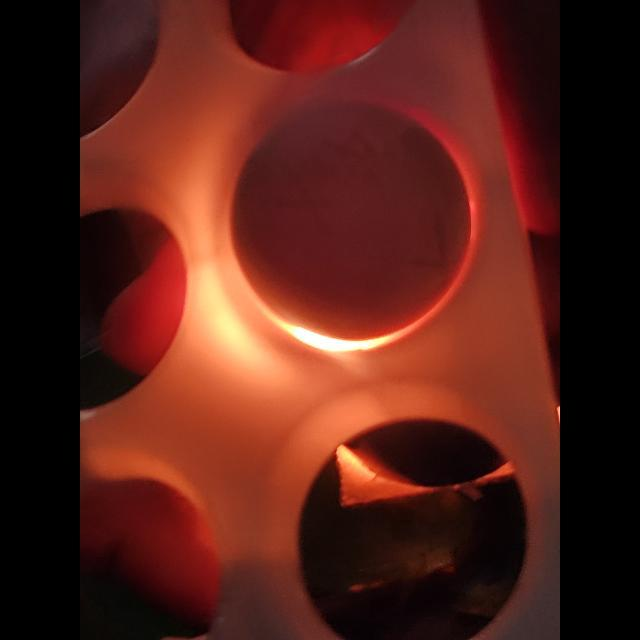Fertile: (222, 96, 476, 350)
